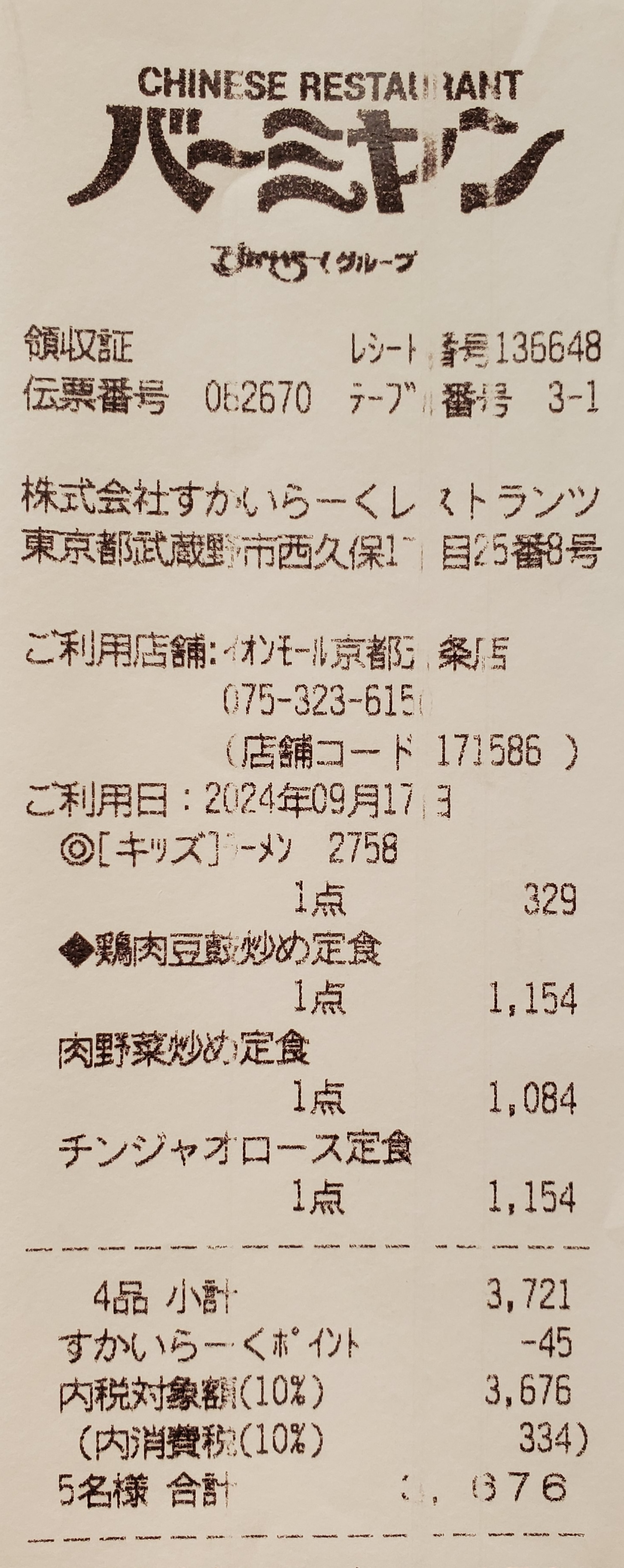Date: (195, 776, 430, 830)
Shopname: (64, 93, 577, 231)
Telnum: (213, 674, 426, 728)
Totalpay: (164, 1466, 598, 1518)
